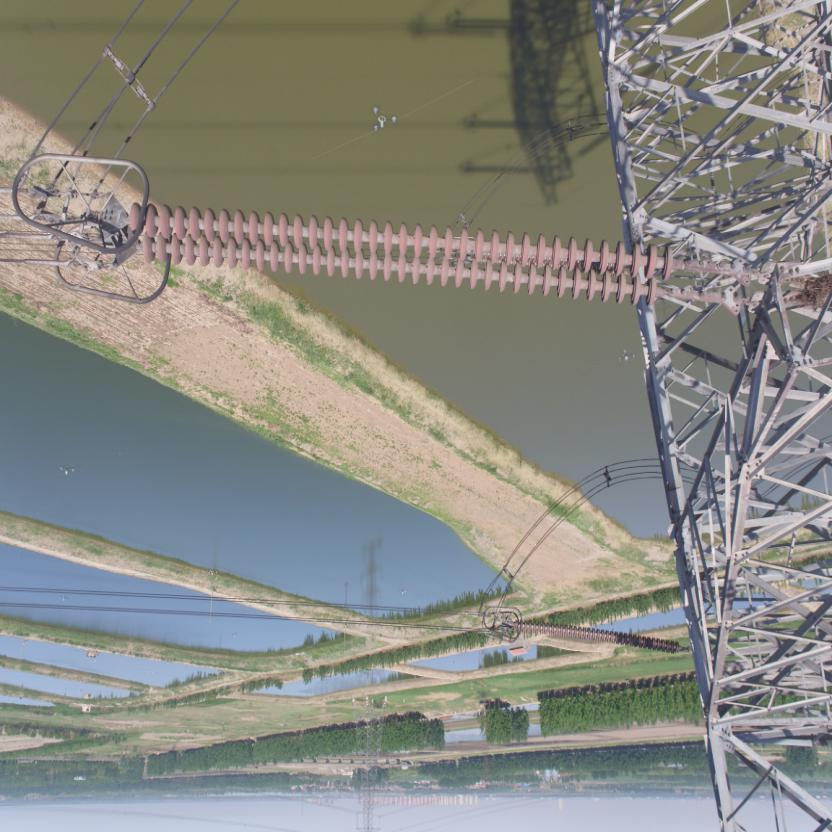insulator: (113, 199, 711, 314), (512, 617, 688, 659)
